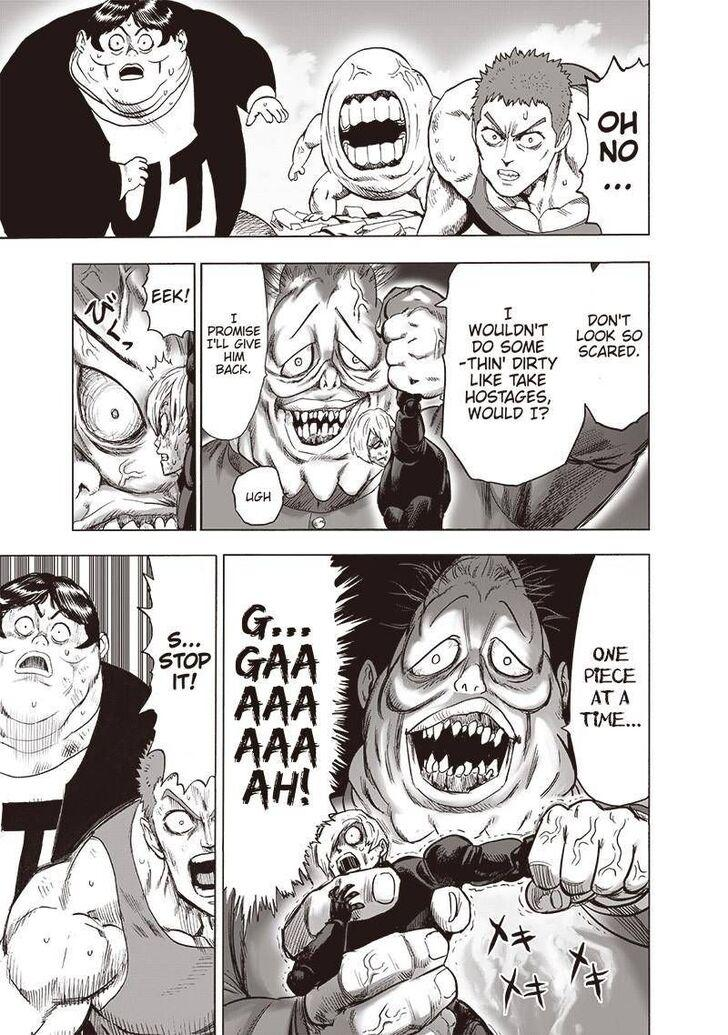Bubble: (221, 552, 343, 910), (438, 260, 570, 488), (566, 552, 652, 808), (138, 552, 217, 797), (575, 53, 652, 237), (574, 259, 652, 432), (200, 262, 269, 441), (141, 261, 196, 341), (229, 461, 287, 527)
